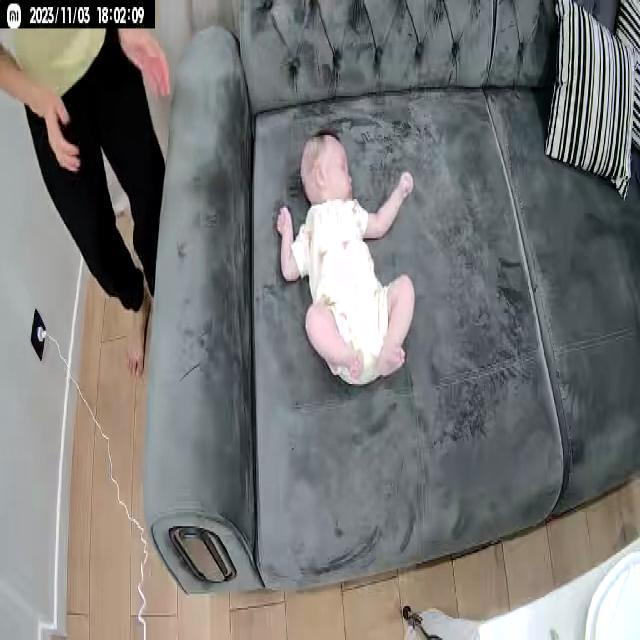baby: (274, 127, 417, 390)
